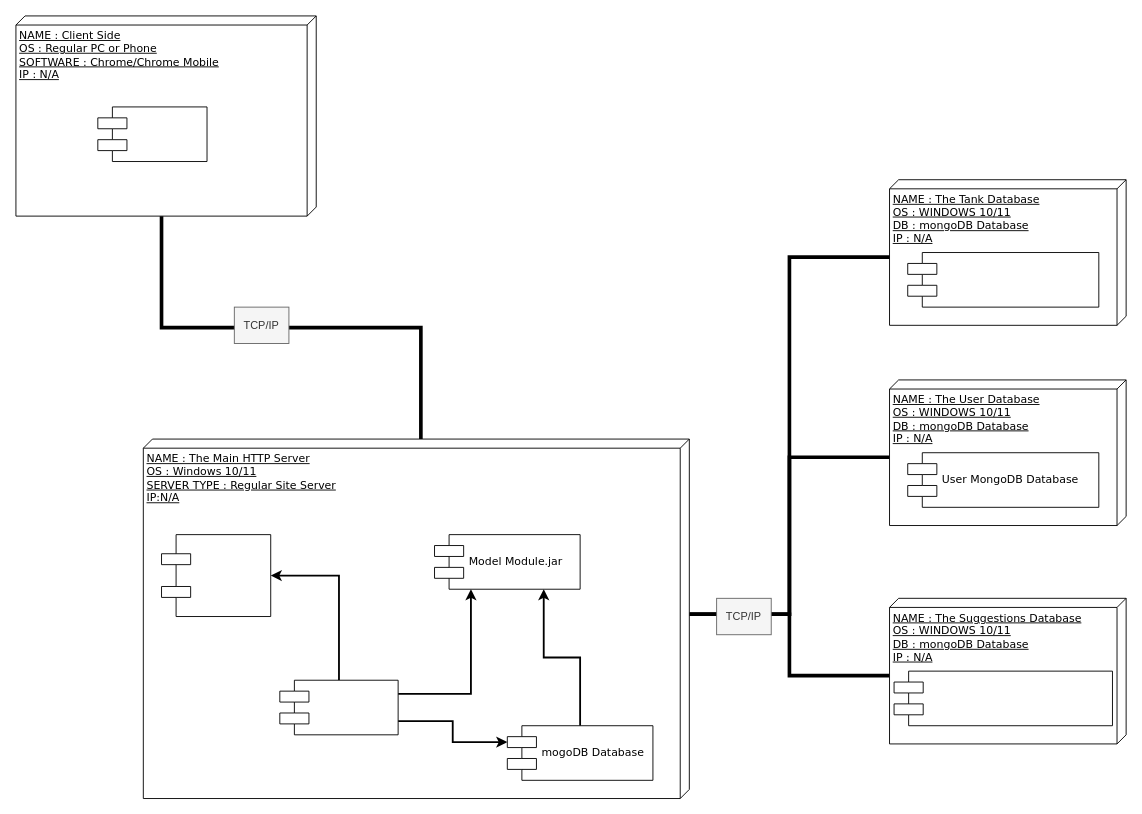
This 1142x814 diagram has some shape labels left out. The shapes that lost their labels are listed below. From the top down, each one's centre as x and y in pixels, then its label:
At (152,134): "HTTP-Client".
At (1003,279): "Tank MongoDB Database".
At (216,575): "HTTP, JS CODE, CSS CODE, HTML CODE, React Code,".
At (338,707): "BL Module.jar".
At (1002,698): "Suggestions MongoDB Database".
